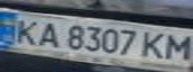0: (100, 25, 121, 55)
3: (81, 24, 103, 53)
7: (118, 26, 142, 57)
8: (63, 20, 87, 52)
A: (33, 19, 63, 48)
K: (6, 16, 45, 46), (139, 28, 172, 61)
M: (163, 32, 193, 62)
